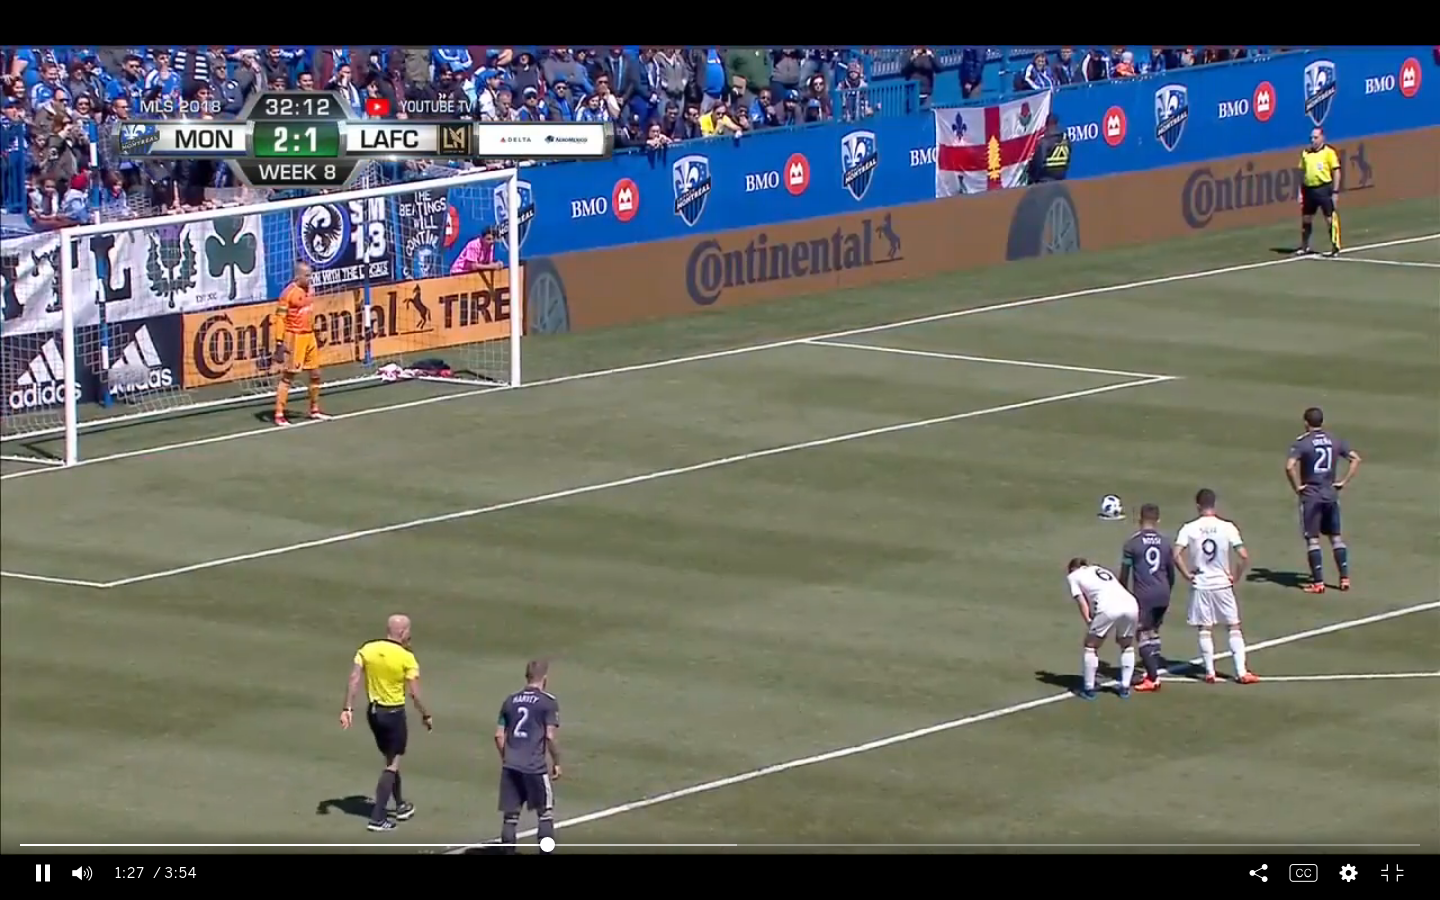referee: (333, 603, 438, 845), (1290, 123, 1348, 262)
soccer player: (1173, 483, 1267, 686), (1279, 405, 1362, 599), (490, 659, 565, 846), (1061, 557, 1142, 696), (1119, 508, 1179, 686), (270, 249, 328, 423)
soccerball: (1098, 488, 1128, 522)
